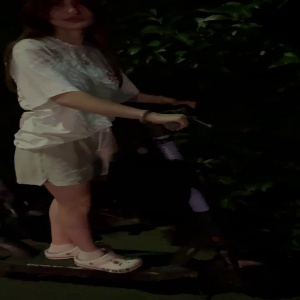human on a scooter: (1, 1, 285, 296)
